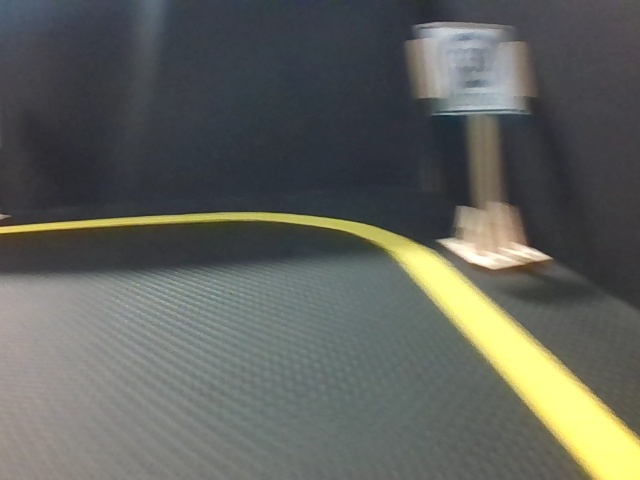no30: (434, 26, 519, 112)
